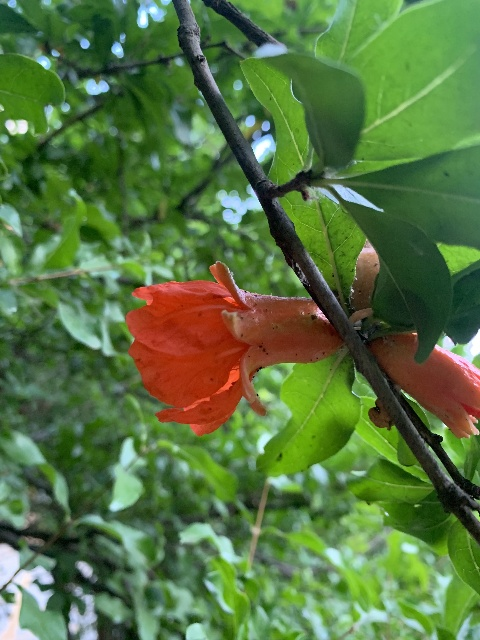flower: (124, 260, 342, 435), (366, 331, 480, 437)
